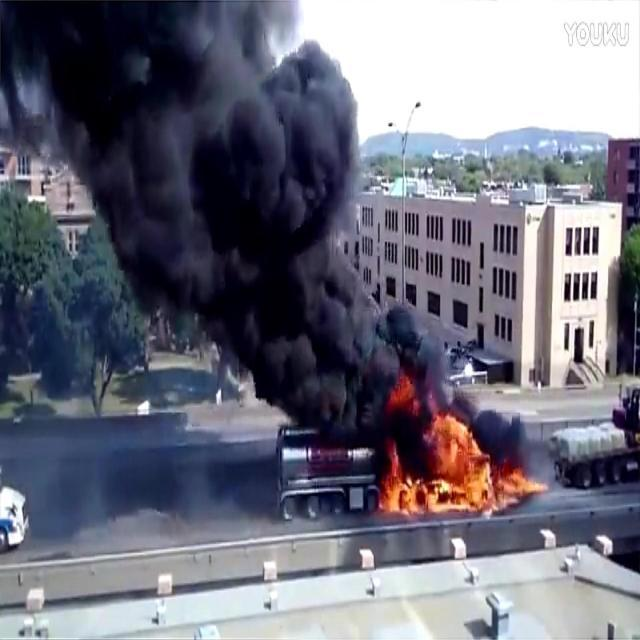Fire: (376, 376, 550, 518)
Smoke: (1, 0, 554, 489)
